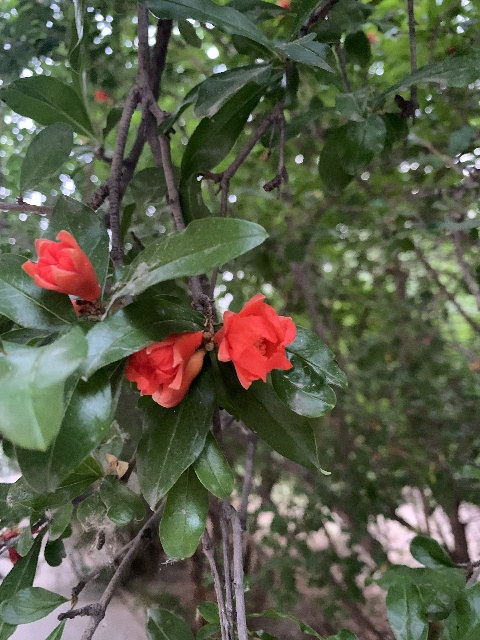bud: (152, 350, 203, 407)
flower: (213, 293, 296, 388), (22, 230, 101, 302), (124, 330, 202, 400)
